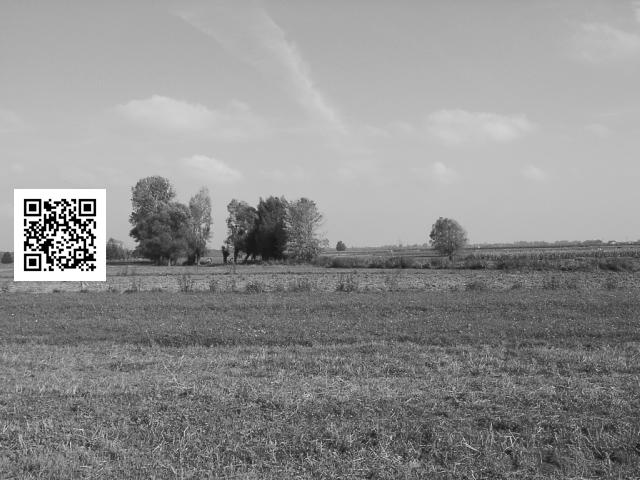qr_code: (14, 188, 106, 279)
